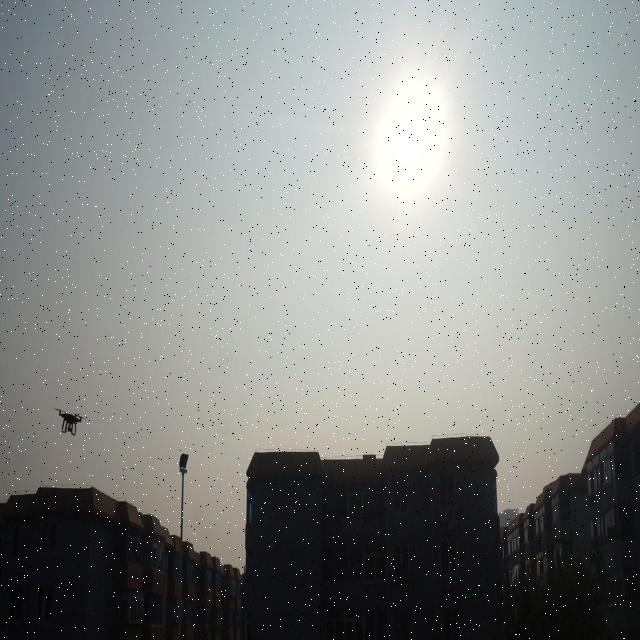UAV: (52, 408, 86, 436)
